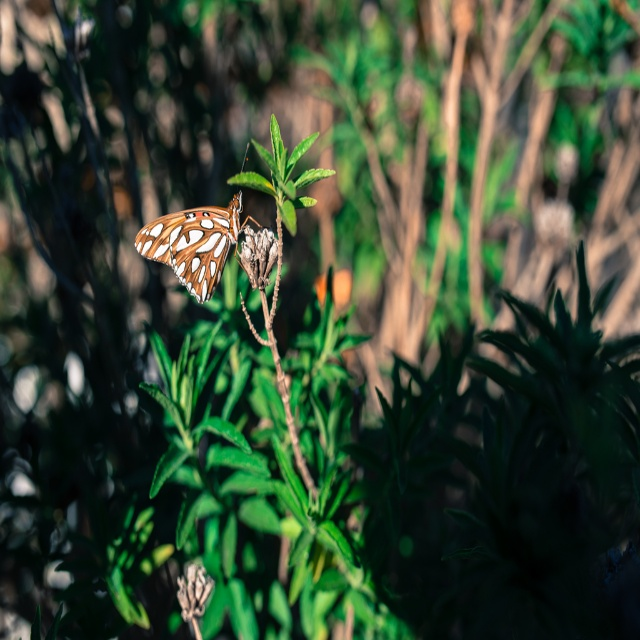Butterfly: (135, 182, 257, 306)
